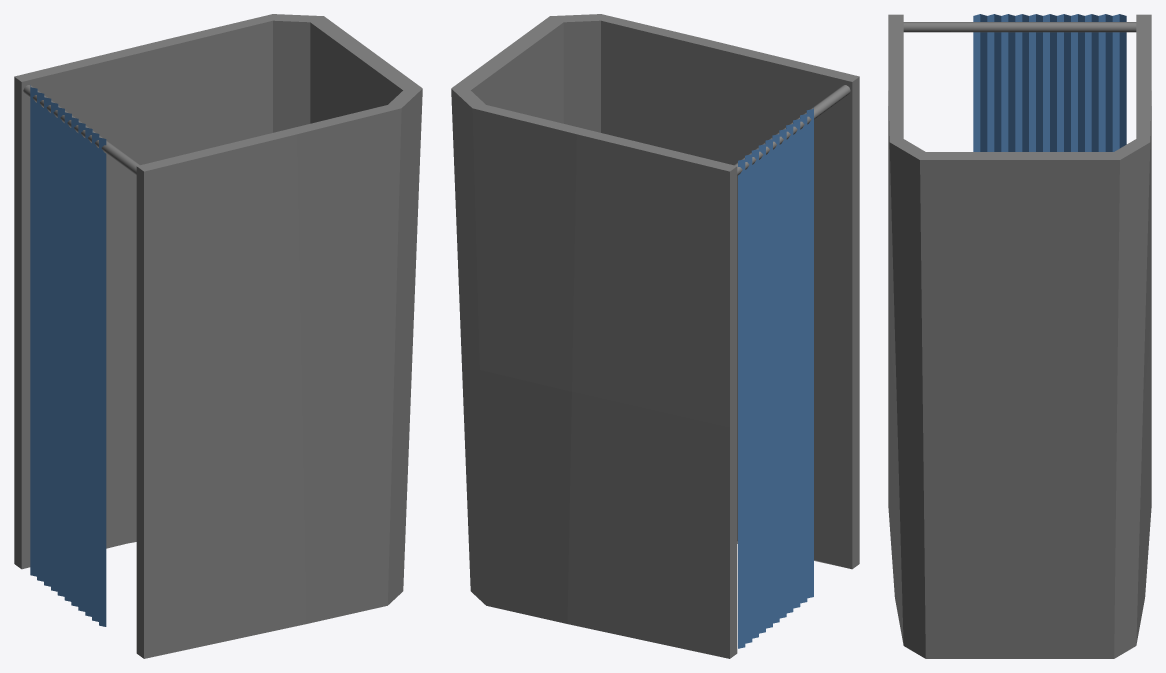
Rendered from hygiene.glb.
3 views of the same model, side by side, from view 1: azimuth 30°, elevation 25°; view 2: azimuth 150°, elevation 25°; view 3: azimuth 270°, elevation 25° (orthographic).
Visible parts, largest first — view 1: Cube.020, Plane.001, Cylinder.011; view 2: Cube.020, Plane.001, Cylinder.011; view 3: Cube.020, Plane.001, Cylinder.011.
Boxes of the visible parts, box(x1,y1,x2,y2) form: Cube.020: box(14, 14, 422, 658); Plane.001: box(30, 85, 106, 626); Cylinder.011: box(23, 85, 139, 175); Cube.020: box(451, 14, 859, 658); Plane.001: box(738, 107, 813, 648); Cylinder.011: box(734, 85, 850, 175); Cube.020: box(888, 14, 1151, 658); Plane.001: box(973, 14, 1126, 151); Cylinder.011: box(903, 22, 1136, 32).
Bounding box in the file's own units: 5.29 × 8.61 × 4.04.
